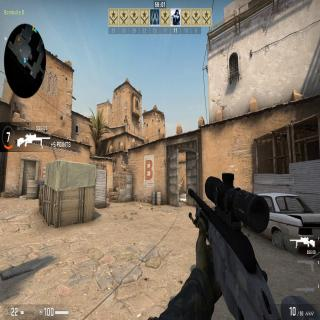T-Body: (112, 156, 116, 172)
T-Head: (113, 156, 115, 158)
